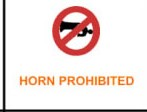Traffic signal: (51, 5, 103, 56)
